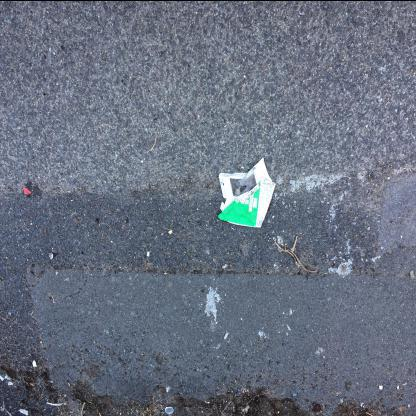karton: (219, 157, 277, 229)
